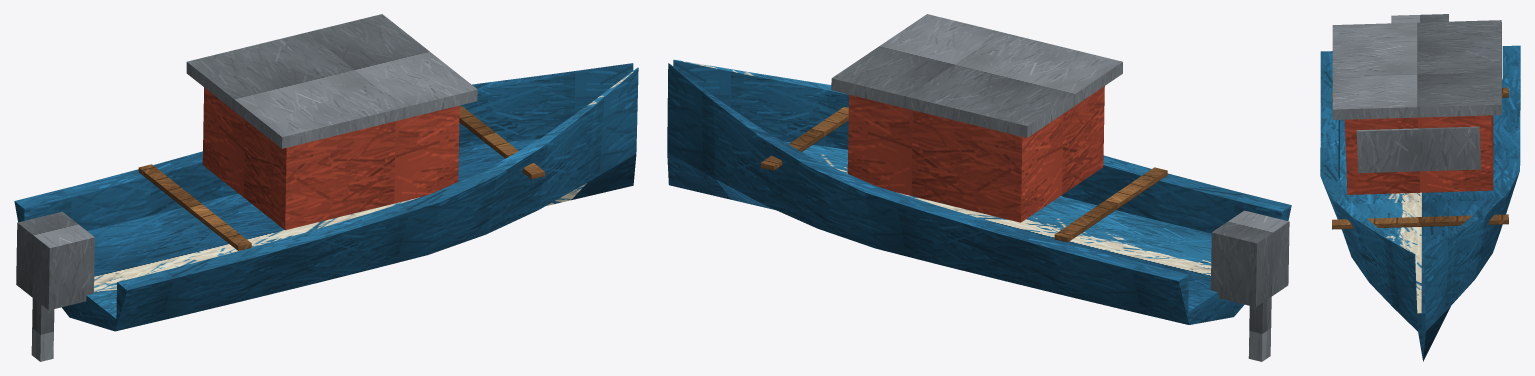
Rendered from lancha.glb.
The picture shows the model from 3 angles, left to right: view 1: azimuth 30°, elevation 25°; view 2: azimuth 150°, elevation 25°; view 3: azimuth 270°, elevation 25°; orthographic projection. The views are drawn at different scales.
Parts seen in each view (by area): view 1: Lancha_casco; view 2: Lancha_casco; view 3: Lancha_casco.
Boxes of the visible parts, x1,y1,x2,y2 form: Lancha_casco: (14,14,638,361); Lancha_casco: (667,14,1291,361); Lancha_casco: (1320,14,1520,361).
Size of the model in its own units: 16 by 5.53 by 5.2.
Materials: 4 (4 with a texture image).
